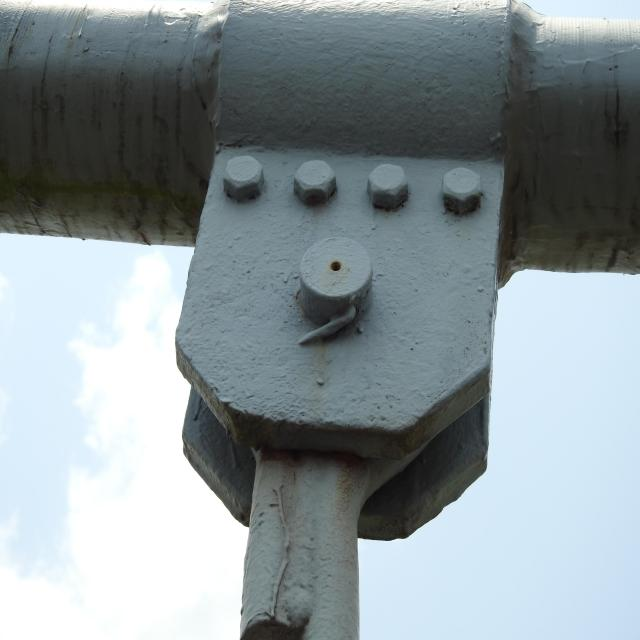corrosion: (334, 453, 356, 550), (280, 452, 298, 510)
crack: (7, 2, 31, 68), (40, 46, 50, 101)
